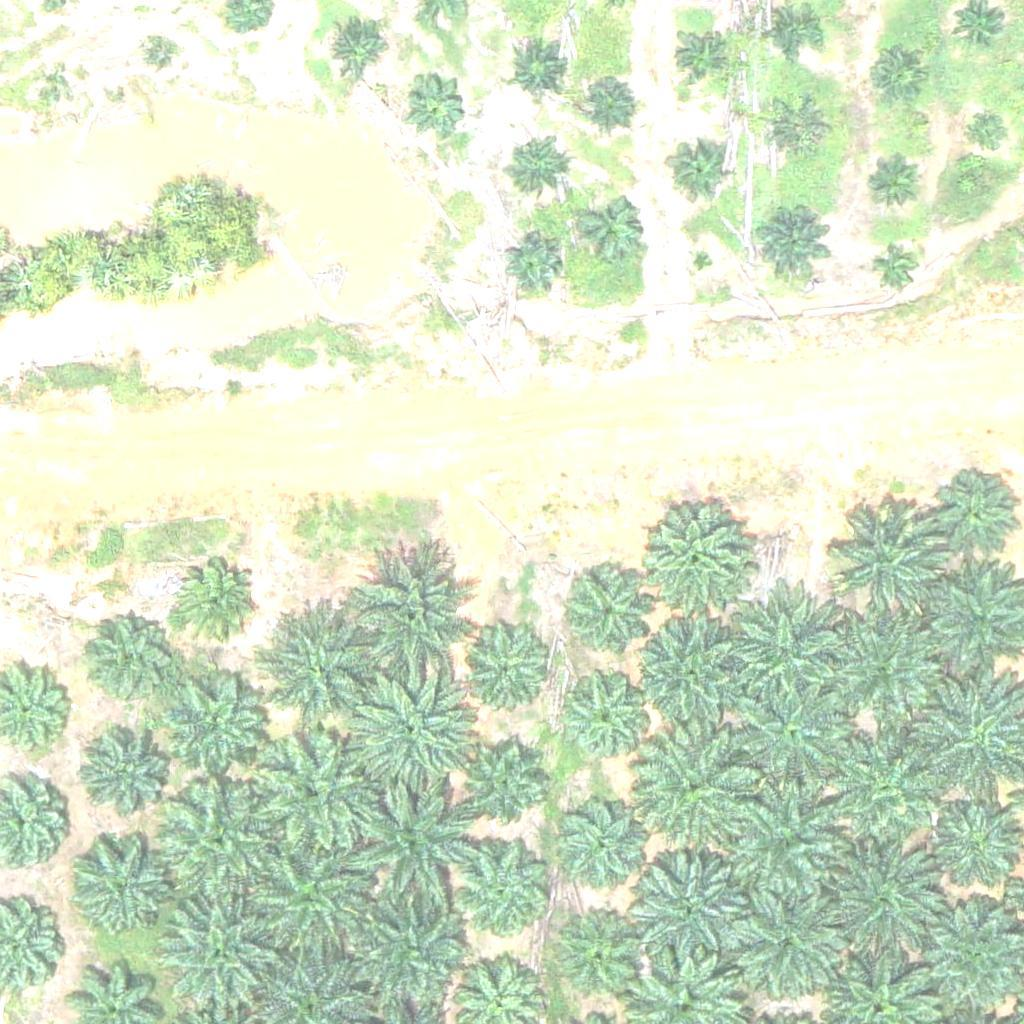Kelapa_Sawit: (829, 496, 954, 622), (821, 604, 946, 730), (826, 732, 951, 858), (826, 844, 951, 970), (727, 781, 852, 907), (732, 673, 857, 799), (726, 593, 851, 719), (630, 613, 755, 739), (629, 842, 754, 968), (352, 546, 477, 672), (347, 667, 472, 793), (348, 779, 473, 905), (352, 894, 477, 1020), (261, 602, 386, 728), (256, 727, 381, 853), (249, 830, 374, 956), (158, 776, 283, 902), (724, 884, 849, 1009), (641, 724, 766, 849), (635, 499, 748, 613), (160, 892, 272, 1005), (453, 844, 553, 945), (168, 674, 268, 775), (455, 615, 555, 715), (69, 836, 169, 936), (560, 794, 648, 882), (90, 615, 178, 703), (560, 912, 647, 1000), (567, 671, 654, 759), (566, 572, 653, 660), (460, 744, 547, 832), (170, 558, 257, 646), (84, 734, 171, 822), (933, 477, 1020, 565), (754, 204, 829, 280), (568, 191, 643, 267), (501, 139, 564, 202), (400, 71, 463, 134), (668, 140, 731, 203), (500, 236, 563, 299), (767, 99, 829, 162), (323, 16, 385, 79), (508, 41, 570, 103), (575, 69, 637, 131), (872, 50, 922, 101), (965, 108, 1015, 159), (768, 8, 818, 58), (867, 161, 917, 211), (672, 31, 722, 81), (873, 242, 923, 292), (148, 38, 173, 63), (53, 72, 78, 97)
